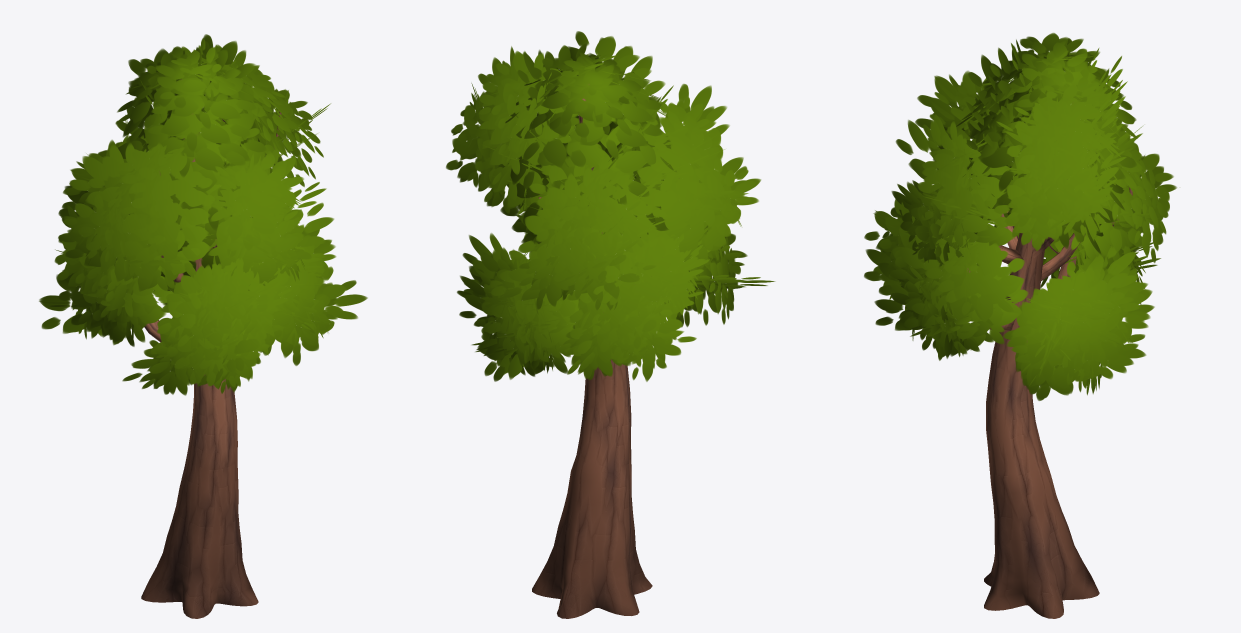
The model's file is tree.glb.
3 renders of one model, left to right at view 1: azimuth 30°, elevation 25°; view 2: azimuth 150°, elevation 25°; view 3: azimuth 270°, elevation 25°, orthographic. The views are drawn at different scales.
Visible parts, largest first — view 1: CommonTree_1; view 2: CommonTree_1; view 3: CommonTree_1.
Boxes of the visible parts, box(x1,y1,x2,y2) form: CommonTree_1: box(39, 34, 367, 618); CommonTree_1: box(446, 31, 775, 618); CommonTree_1: box(864, 33, 1176, 618).
Size of the model in its own units: 4.31 by 7.26 by 4.58.
Materials: 2 (2 with a texture image).
